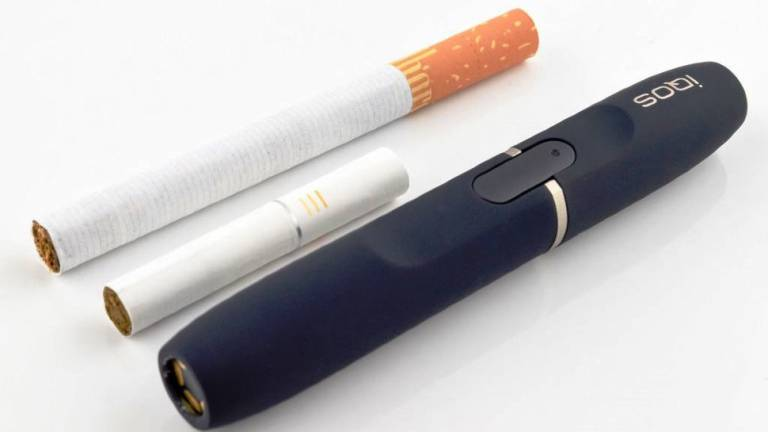cigarette: (27, 6, 552, 278)
